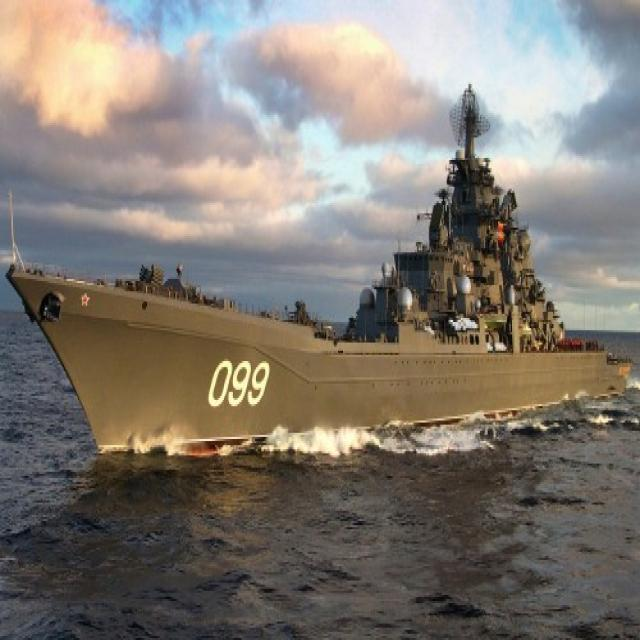navalvessels: (15, 90, 637, 453)
